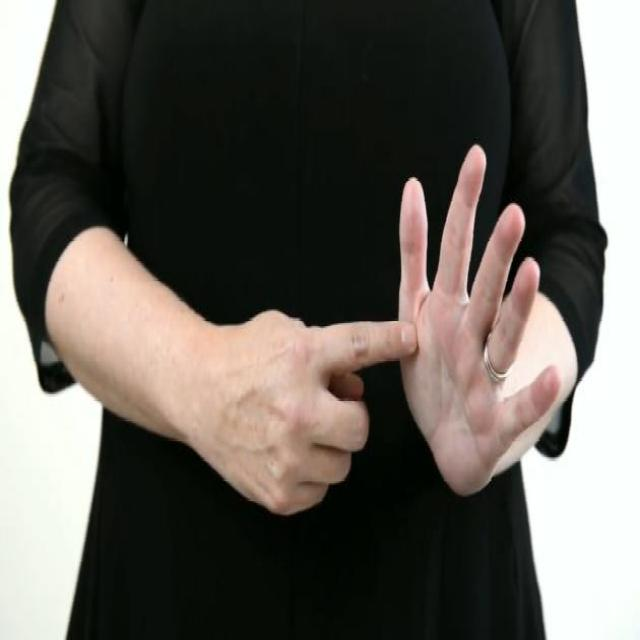J: (265, 138, 565, 532)
